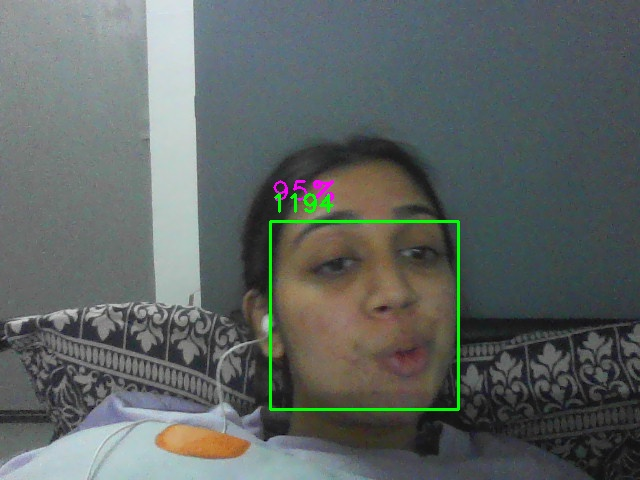real: (270, 221, 459, 410)
